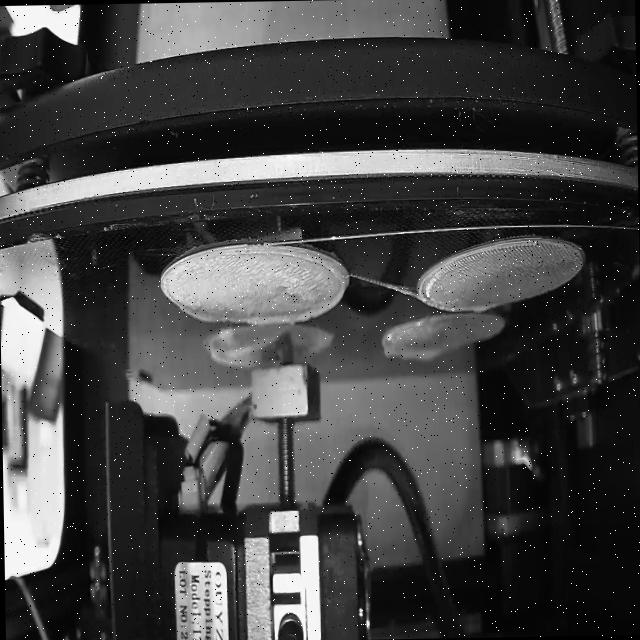over_extrusion: (241, 242, 347, 328), (380, 334, 445, 364), (175, 297, 218, 330), (466, 300, 496, 316)
